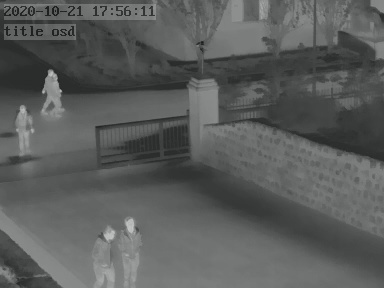person: (118, 217, 140, 288), (94, 221, 117, 288), (14, 103, 34, 153), (41, 68, 62, 113)
